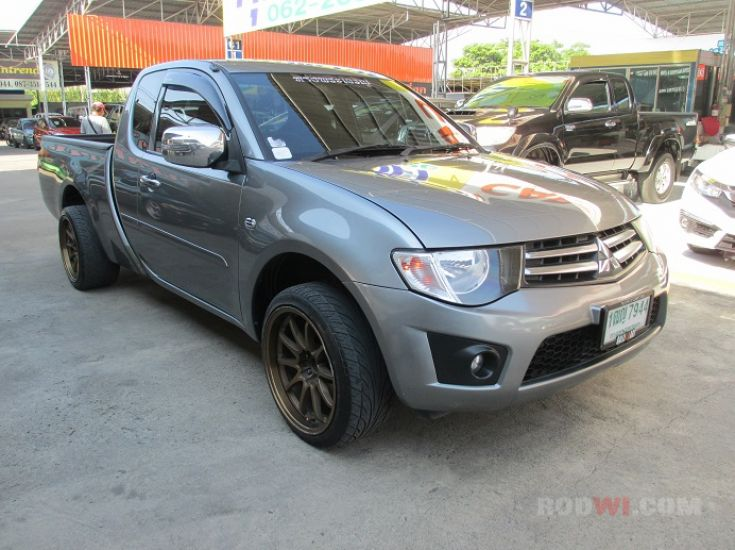pickup: (30, 54, 676, 452)
